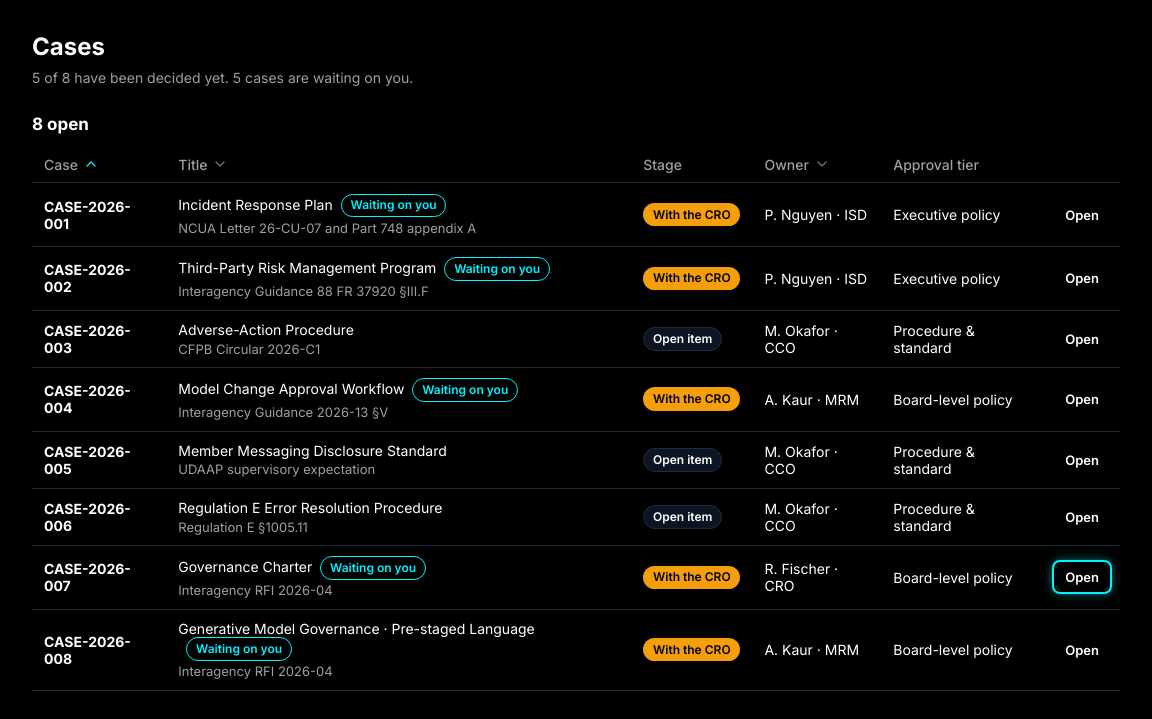
Scenario: AC-r05-1 — the origin field group renders alongside the six whole-trail elements, print-scoped and not display-suppressed › Source/Date/Signal/Note labels+values are all present in the DOM while the export control is available, with no display:none ancestor between them and the dialo
Expected: the text "CASE-2026-007" is shown, [44,560,131,594]
Step 1. Click the button "Open" in the row of "CASE-2026-007" → (1082, 577), box [1056,564,1108,590]
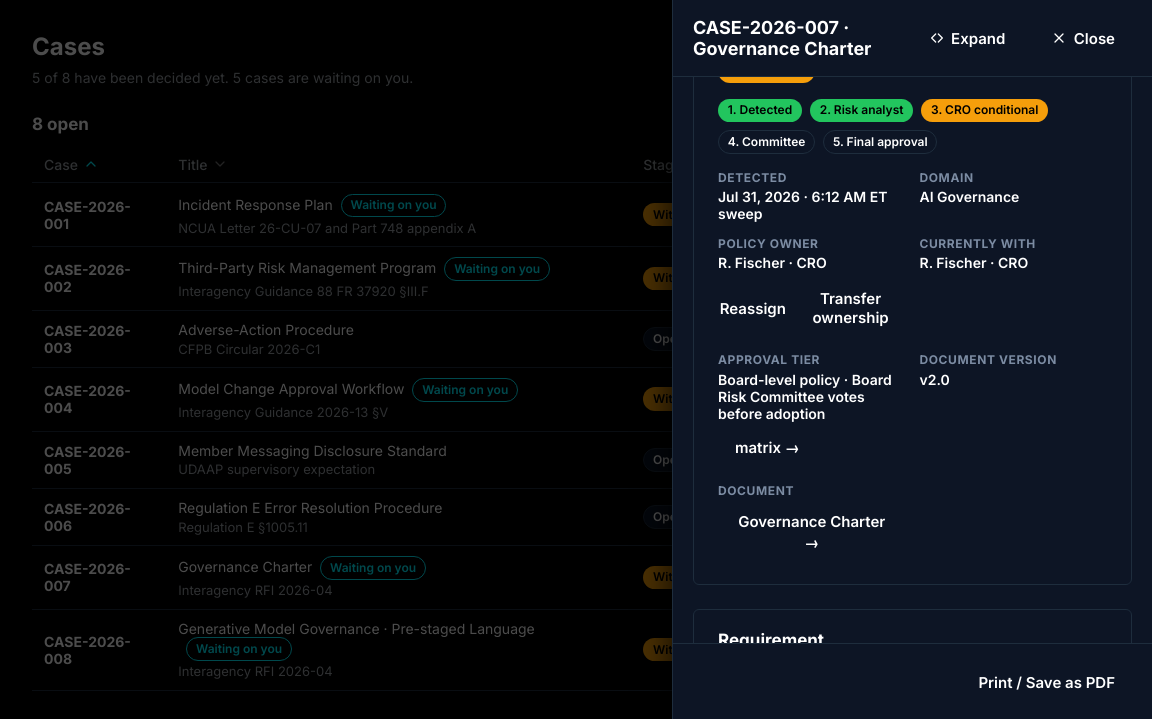
Expected: the button "Print / Save as PDF" is shown, [961,660,1132,704]
Expected: the dialog "CASE-2026-007" shows "Before", [718,370,892,422]
Expected: the heading "Requirement" is shown, [718,630,824,643]
